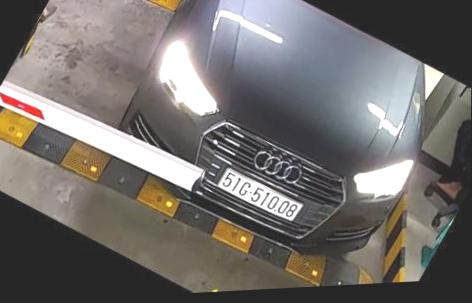License_Plate: (206, 157, 302, 237)
